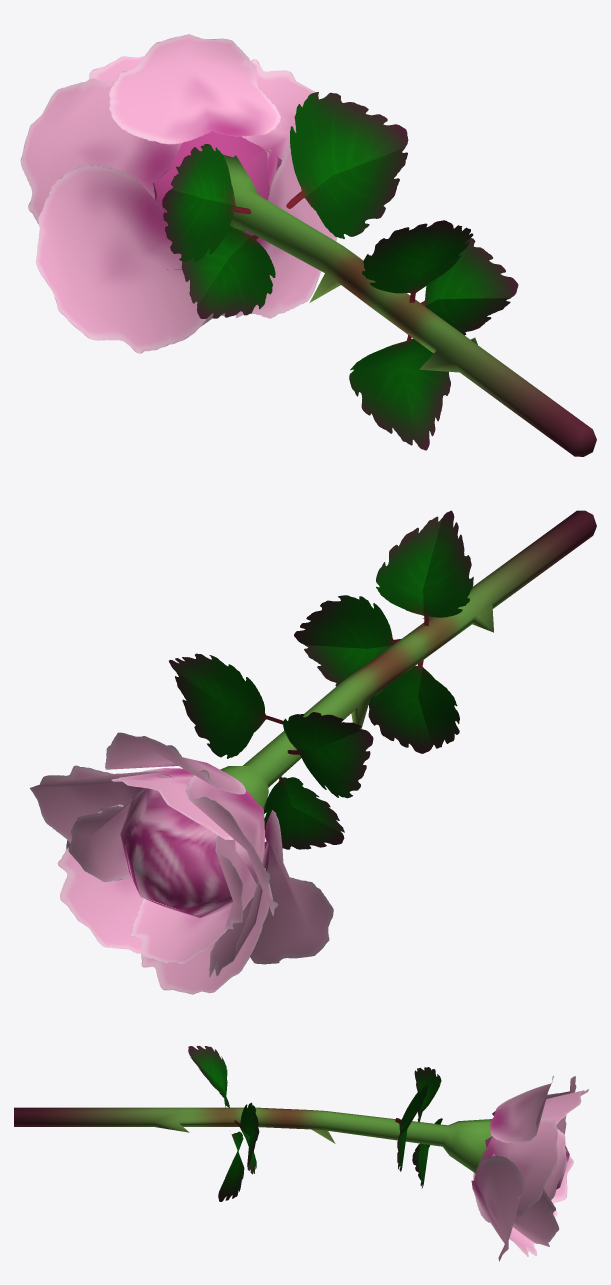
Rendered from SM_Rose_PastellPink_Open.fbx.
3 views of the same model, one above another, from view 1: azimuth 30°, elevation 25°; view 2: azimuth 150°, elevation 25°; view 3: azimuth 270°, elevation 25° (orthographic). The views are drawn at different scales.
Parts seen in each view (by area): view 1: Rose_PastellPink_Open; view 2: Rose_PastellPink_Open; view 3: Rose_PastellPink_Open.
Part boxes in pixels (x1,y1,x2,y2): Rose_PastellPink_Open: (20, 34, 596, 456); Rose_PastellPink_Open: (30, 510, 596, 994); Rose_PastellPink_Open: (14, 1046, 588, 1261).
Bounding box in the file's own units: 50.21 × 50.94 × 127.
